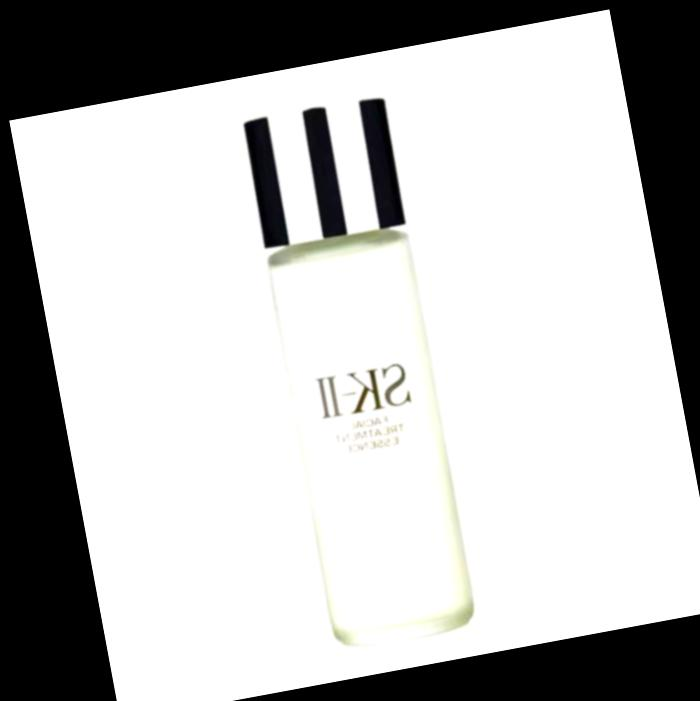cosmetic: (232, 97, 484, 656)
